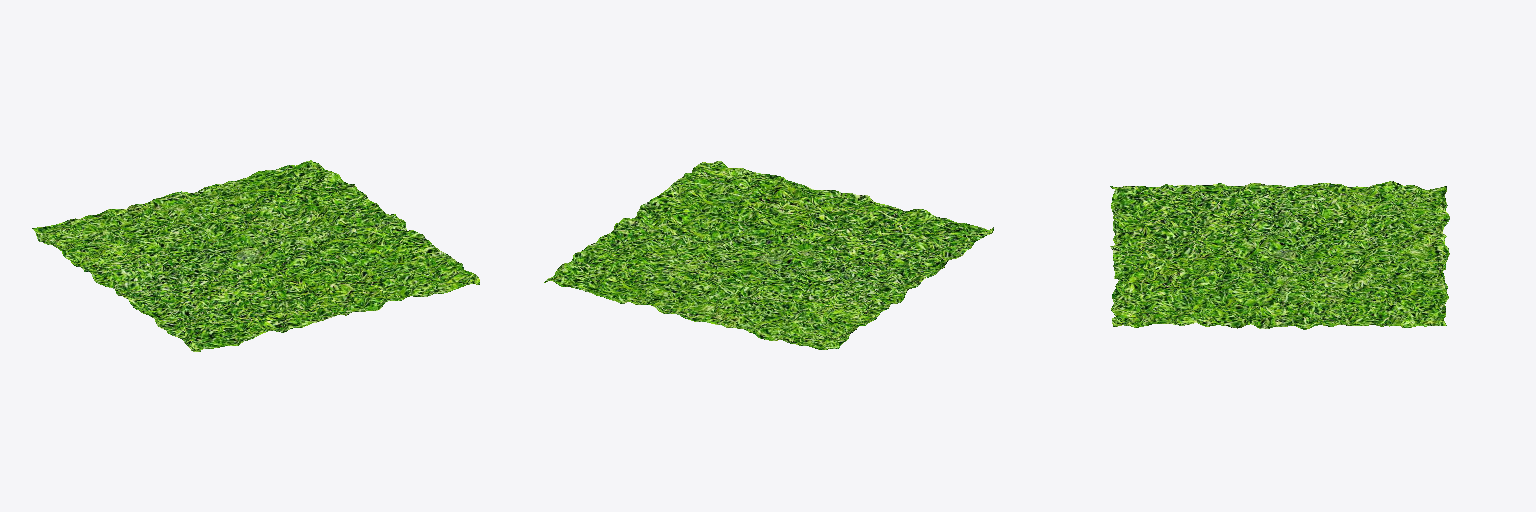
3 views of the same model, side by side, from view 1: azimuth 30°, elevation 25°; view 2: azimuth 150°, elevation 25°; view 3: azimuth 270°, elevation 25° (orthographic).
Parts seen in each view (by area): view 1: Grid; view 2: Grid; view 3: Grid.
Boxes of the visible parts, x1,y1,x2,y2 form: Grid: [32, 160, 479, 351]; Grid: [544, 161, 993, 349]; Grid: [1110, 181, 1449, 329].
Size of the model in its own units: 2.01 by 0.0526 by 2.02.
1 materials, 1 textured.